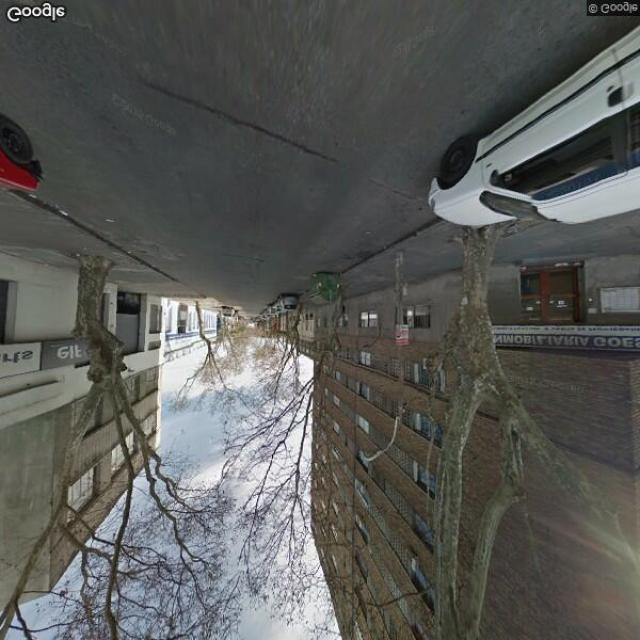garbage container: (303, 265, 349, 308)
